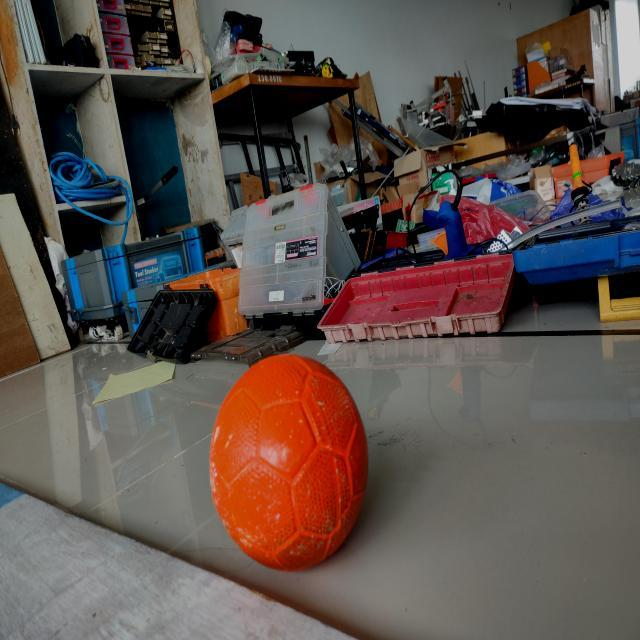bola: (200, 340, 377, 590)
